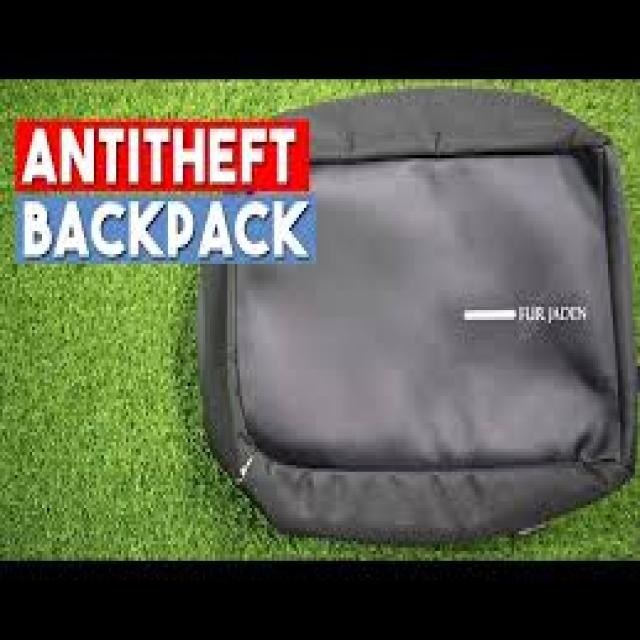backpack: (196, 87, 639, 545)
